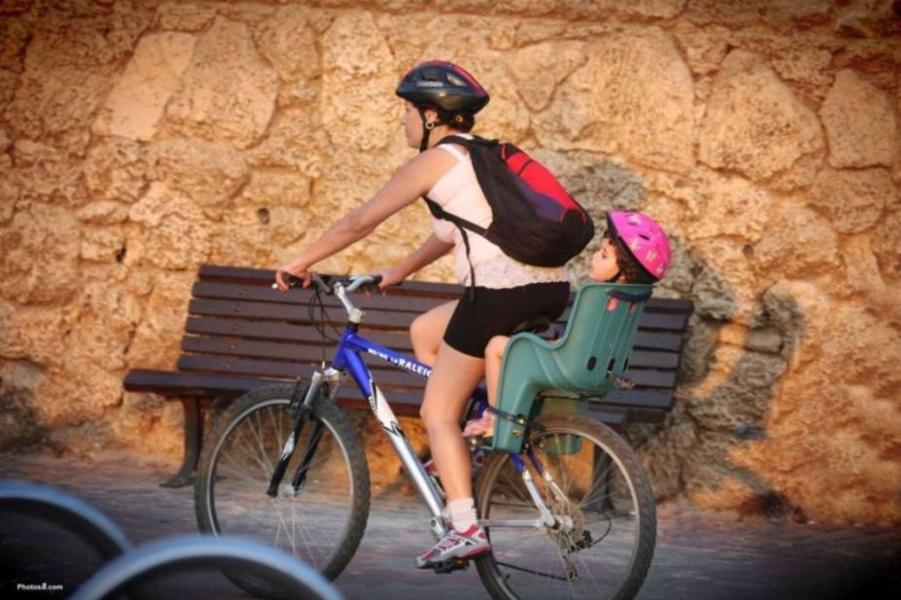person: (275, 61, 570, 568)
